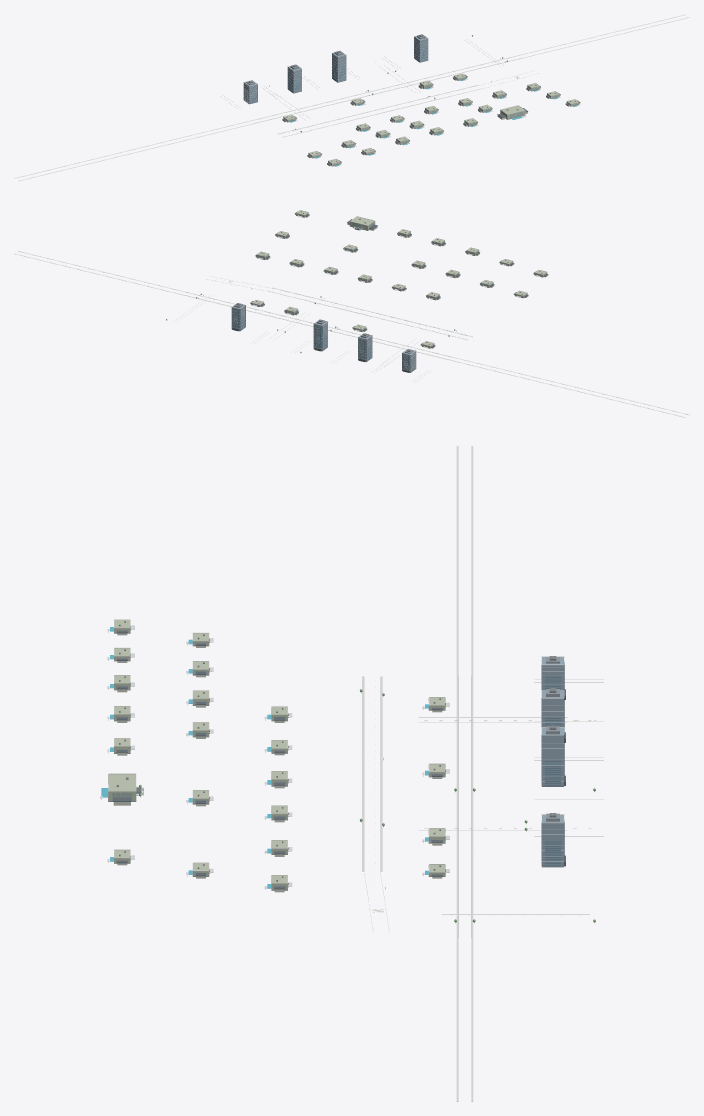
Rendered from detail-sector-n.glb.
The picture shows the model from 3 angles, top to bottom: view 1: azimuth 30°, elevation 25°; view 2: azimuth 150°, elevation 25°; view 3: azimuth 270°, elevation 25°; orthographic projection. The views are drawn at different scales.
Visible parts, largest first — view 1: trim_light, facade_hills, facade_downtown, glass_blue, v3_n_arch_dark; view 2: trim_light, facade_hills, facade_downtown, v3_n_arch_dark, glass_blue, v3_n_arch_light; view 3: trim_light, facade_hills, facade_downtown, curb, v3_n_arch_light, v3_n_arch_dark, glass_blue.
Boxes of the visible parts, box(x1,y1,x2,y2) form: trim_light: box(14, 14, 689, 181); facade_hills: box(283, 74, 579, 166); facade_downtown: box(243, 36, 428, 103); glass_blue: box(245, 46, 577, 165); v3_n_arch_dark: box(257, 36, 580, 165); trim_light: box(14, 210, 689, 417); facade_hills: box(251, 210, 547, 348); facade_downtown: box(231, 304, 416, 372); v3_n_arch_dark: box(232, 211, 548, 372); glass_blue: box(233, 215, 541, 370); v3_n_arch_light: box(232, 215, 540, 370); trim_light: box(108, 446, 564, 1101); facade_hills: box(108, 620, 445, 889); facade_downtown: box(542, 657, 563, 866); curb: box(364, 676, 603, 937); v3_n_arch_light: box(100, 625, 563, 889); v3_n_arch_dark: box(113, 626, 565, 889); glass_blue: box(112, 632, 560, 889).
Bounding box in the file's own units: 3350 × 156 × 1088.
